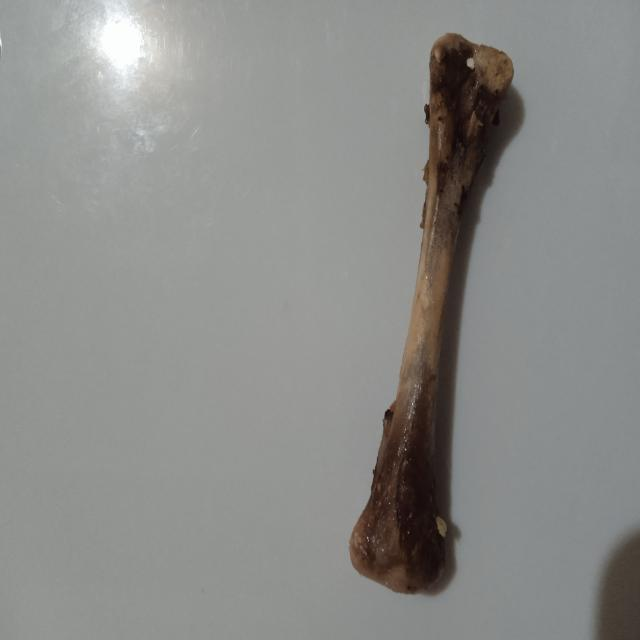bone: (346, 28, 520, 600)
